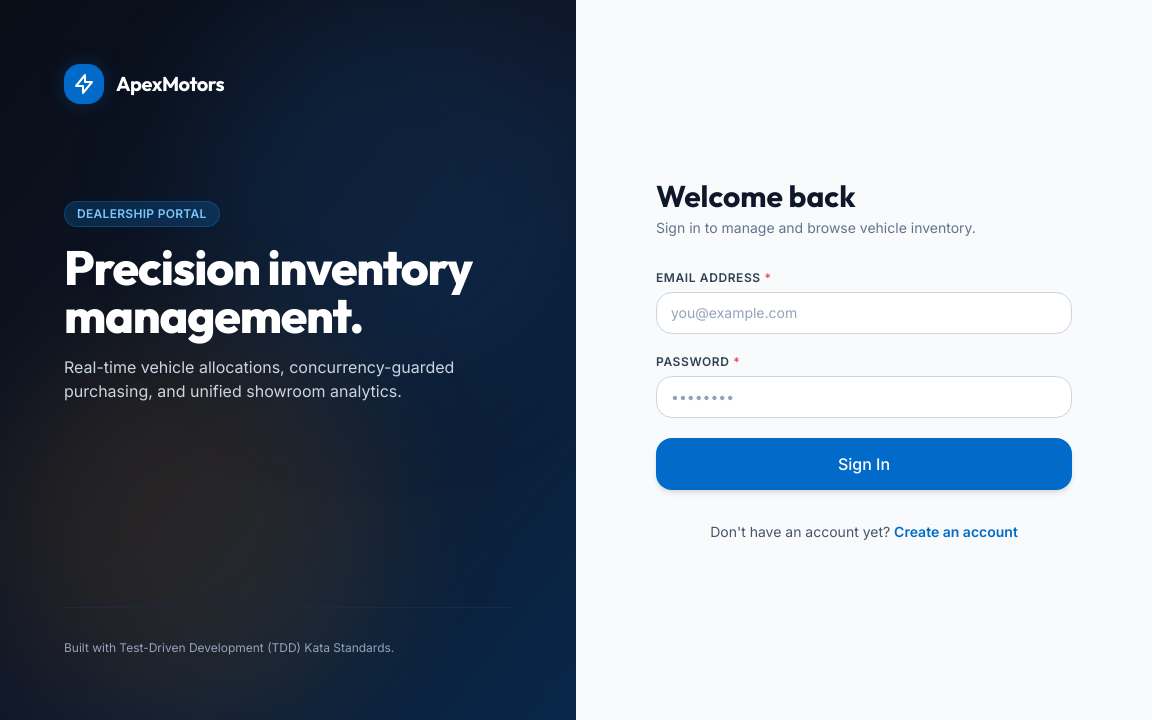
Test case: Auth Pages (Login and Register) › LoginPage › should display server error message when login fails
Type "user@example.com" into the field labelled "Email Address *" at (864, 313), box [656,292,1072,334]
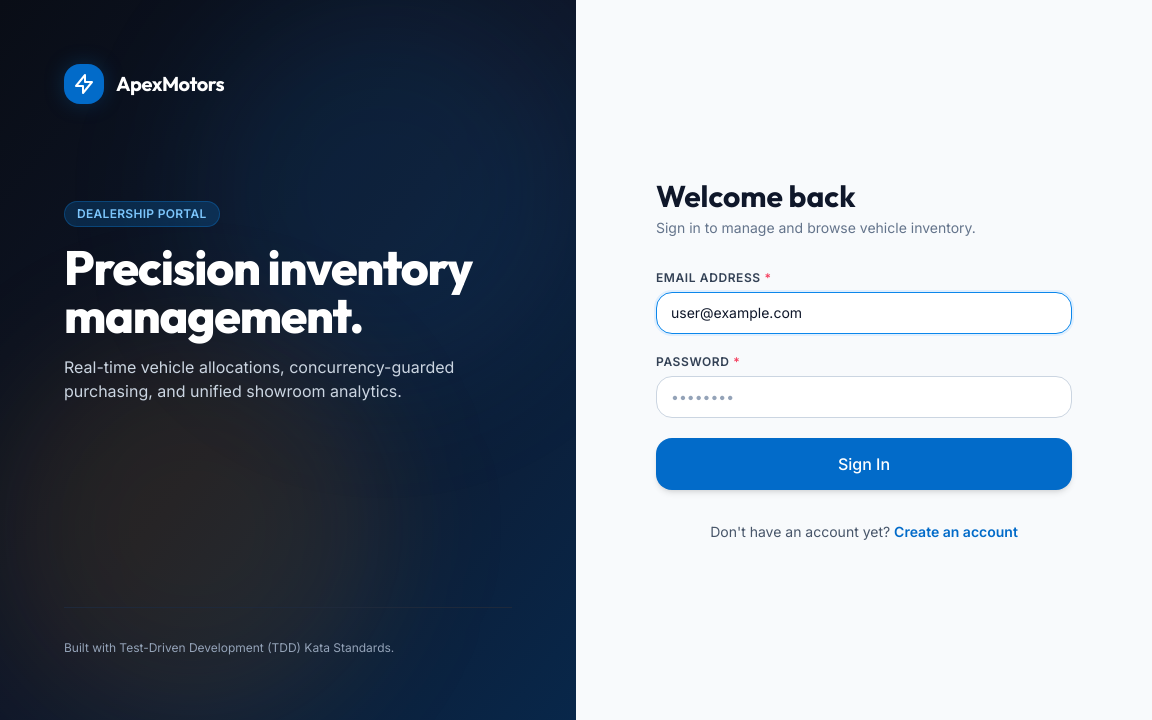
Type "WrongPassword" into the password field labelled "Password *" at (864, 397), box [656,376,1072,418]
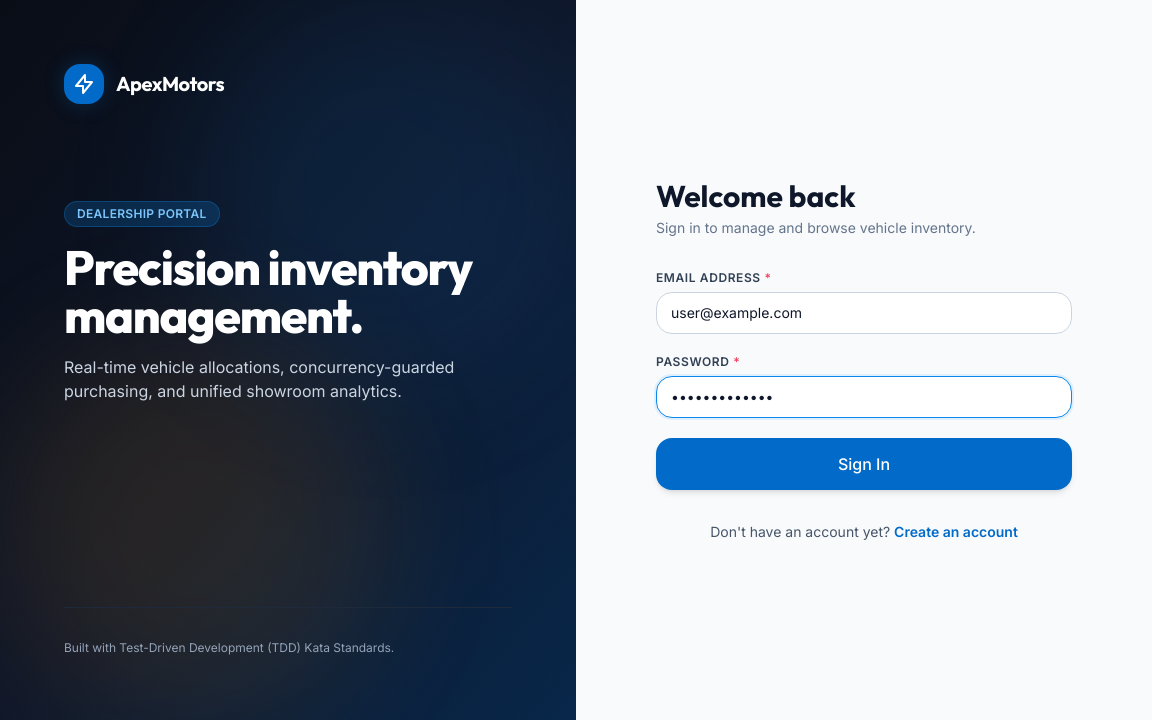
Click the button "Sign In" at (864, 464), box [656,438,1072,490]
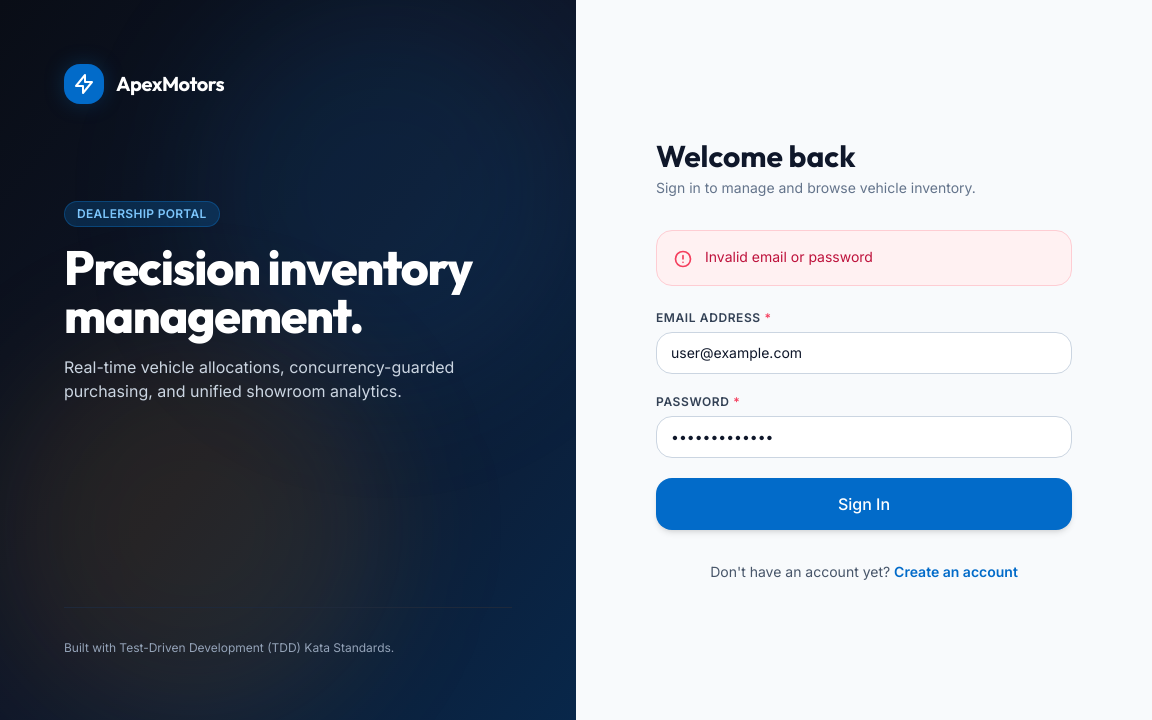
Now the text "Invalid email or password" is shown, box [705,247,873,267]
